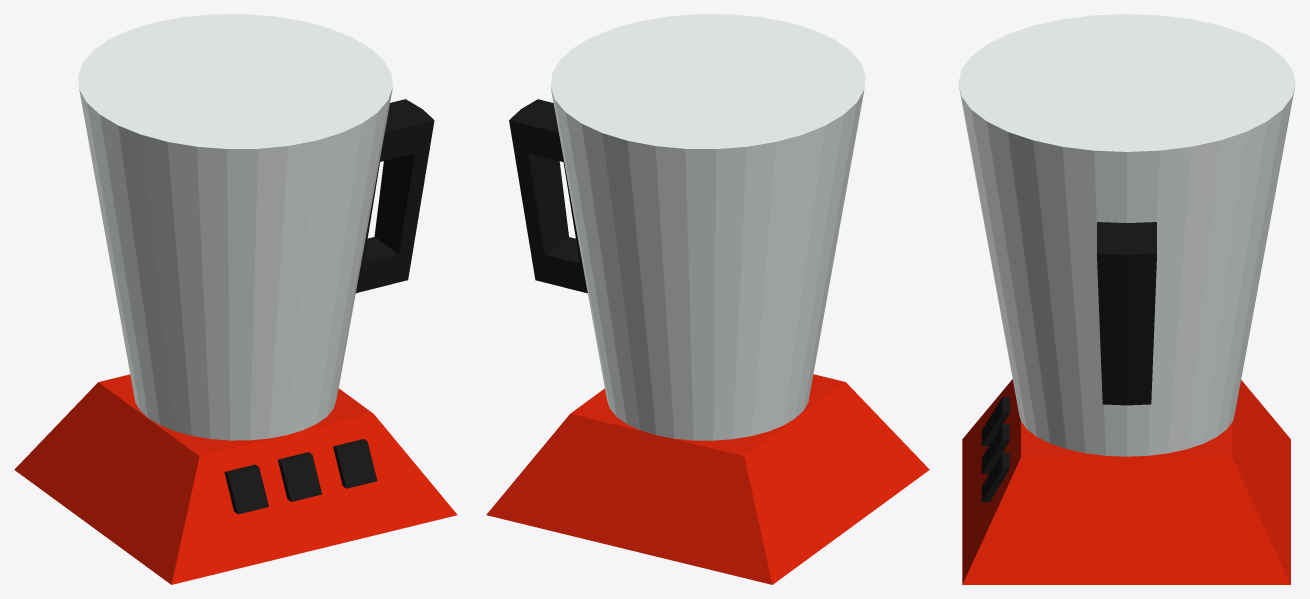
File: Blender.fbx
3 renders of one model, left to right at view 1: azimuth 30°, elevation 25°; view 2: azimuth 150°, elevation 25°; view 3: azimuth 270°, elevation 25°, orthographic. The views are drawn at different scales.
Visible parts, largest first — view 1: Blender; view 2: Blender; view 3: Blender.
Part boxes in pixels (bbox=[...]): Blender: bbox=[14, 14, 457, 584]; Blender: bbox=[486, 14, 929, 584]; Blender: bbox=[958, 14, 1295, 584].
Size of the model in its own units: 8.75 by 10.41 by 7.42.
